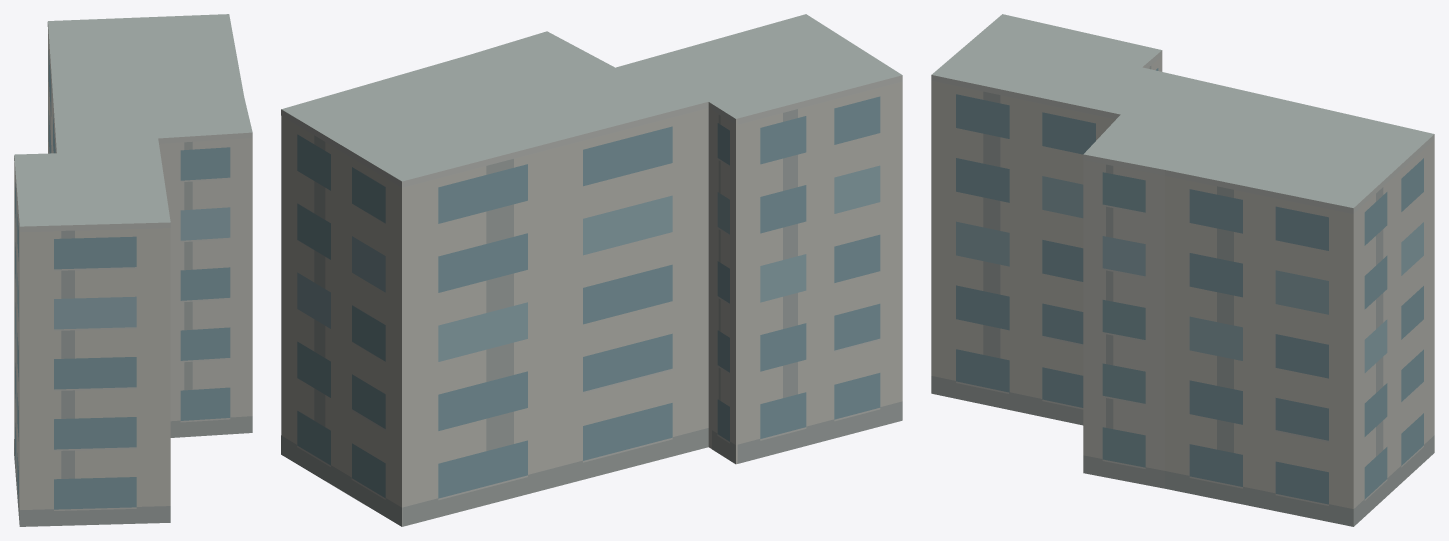
Rendered from survey-upis-32727163.glb.
3 views of the same model, side by side, from view 1: azimuth 30°, elevation 25°; view 2: azimuth 150°, elevation 25°; view 3: azimuth 270°, elevation 25° (orthographic). The views are drawn at different scales.
Parts seen in each view (by area): view 1: survey-upis-32727163.tmp; view 2: survey-upis-32727163.tmp; view 3: survey-upis-32727163.tmp.
Part boxes in pixels (box(x1,y1,x2,y2)): survey-upis-32727163.tmp: box(14, 14, 252, 526); survey-upis-32727163.tmp: box(281, 14, 902, 526); survey-upis-32727163.tmp: box(931, 14, 1434, 526).
Bounding box in the file's own units: 17.45 × 13.35 × 19.11.
